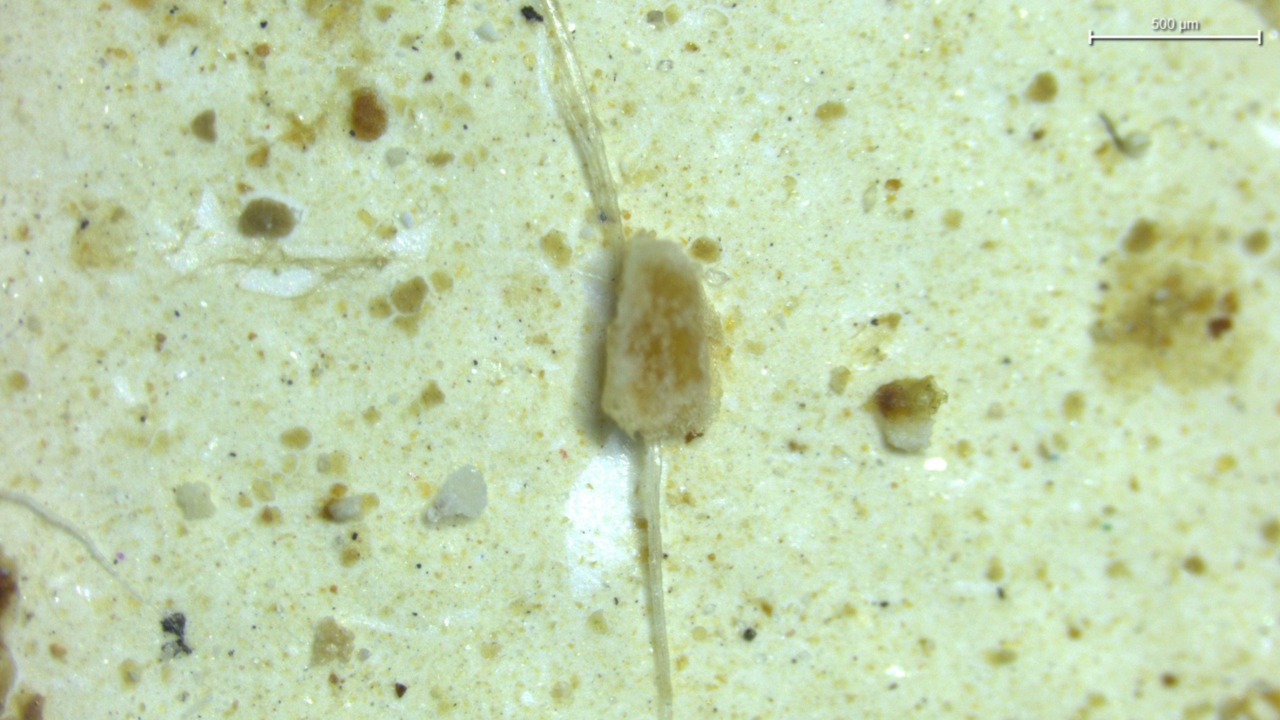microplastic_fragment: (602, 236, 719, 441), (873, 376, 946, 453), (426, 465, 487, 526), (174, 482, 215, 520), (324, 496, 362, 522)
